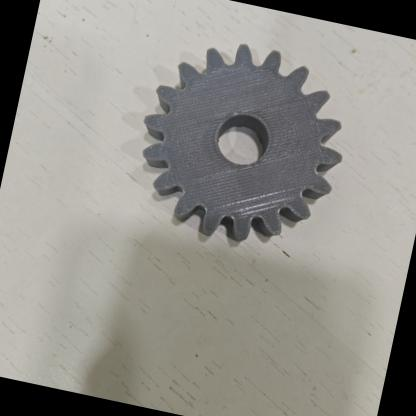gear: (109, 16, 366, 268)
